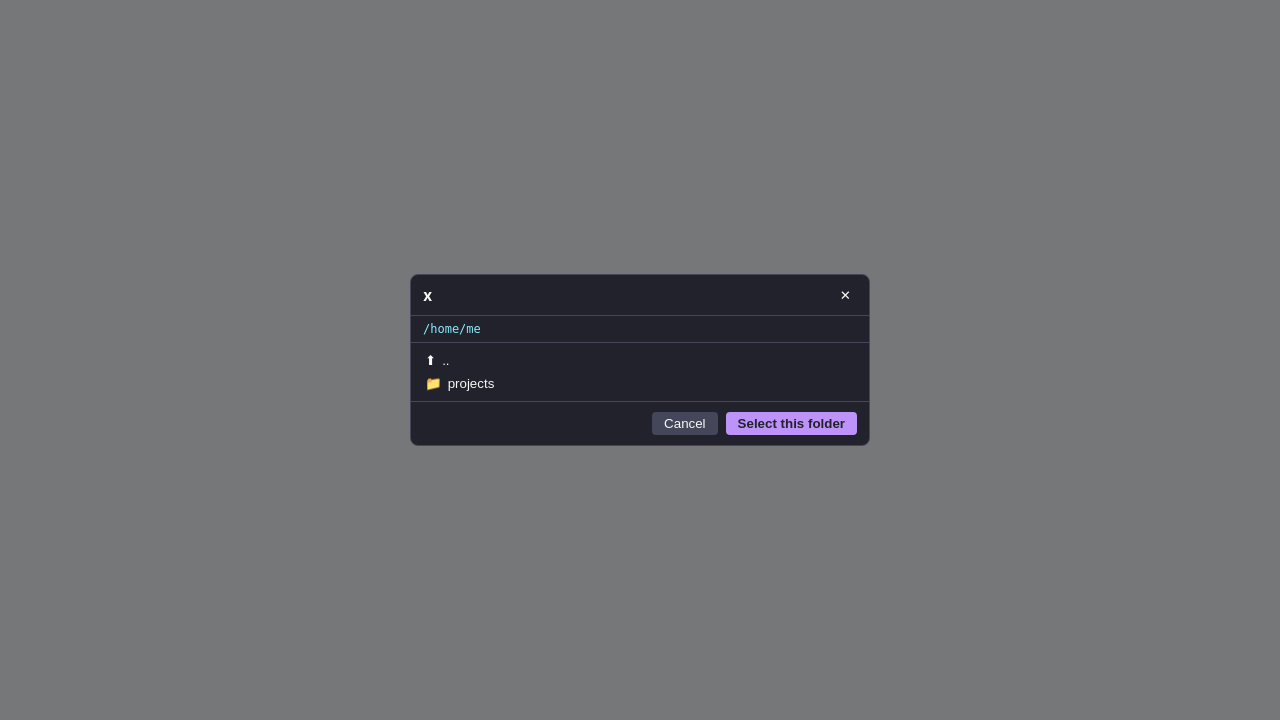
it: DirectoryPicker › descends into a clicked directory
Click the button "📁 projects" at (471,384), box [417, 372, 863, 395]
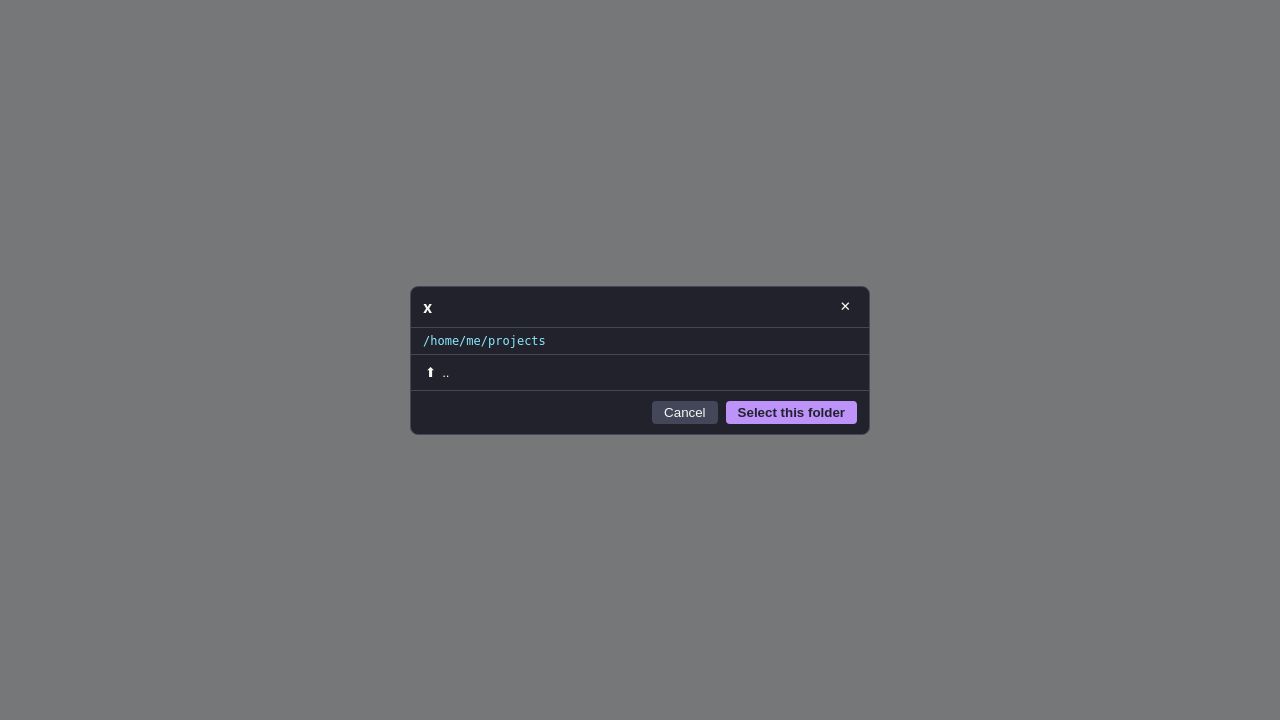
Expected: the text "/home/me/projects" is shown, [411, 328, 869, 354]
